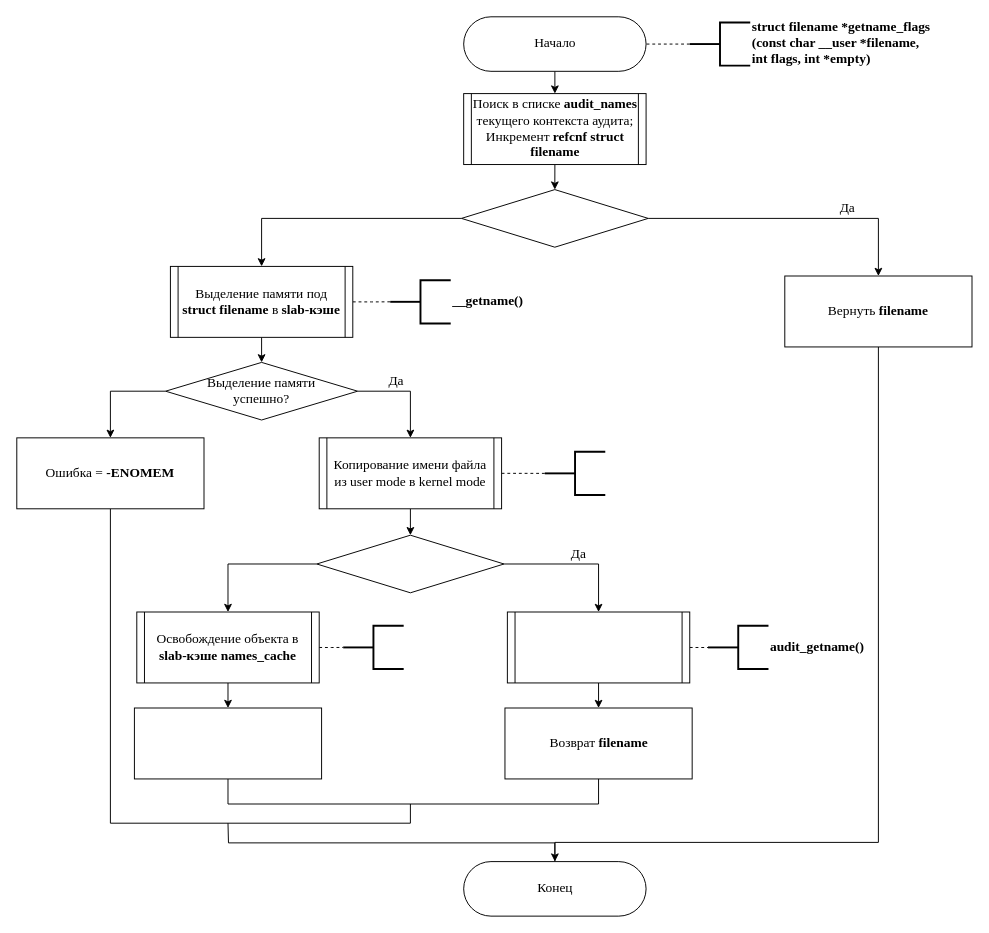
The diagram is 989 pixels wide and 933 high, and some of its shapes have lost their labels. The shapes that lost their labels are listed below. From the top down, each one's centre as x and y in pixels, then its label:
At [554,218]: "Запись существует?".
At [574,472]: "strcopy_from_user()".
At [410,563]: "Копирование успешно?".
At [373,647]: "__putname()".
At [598,647]: "Добавление результата в список имен аудита".
At [227,743]: "Возврат ошибки".
